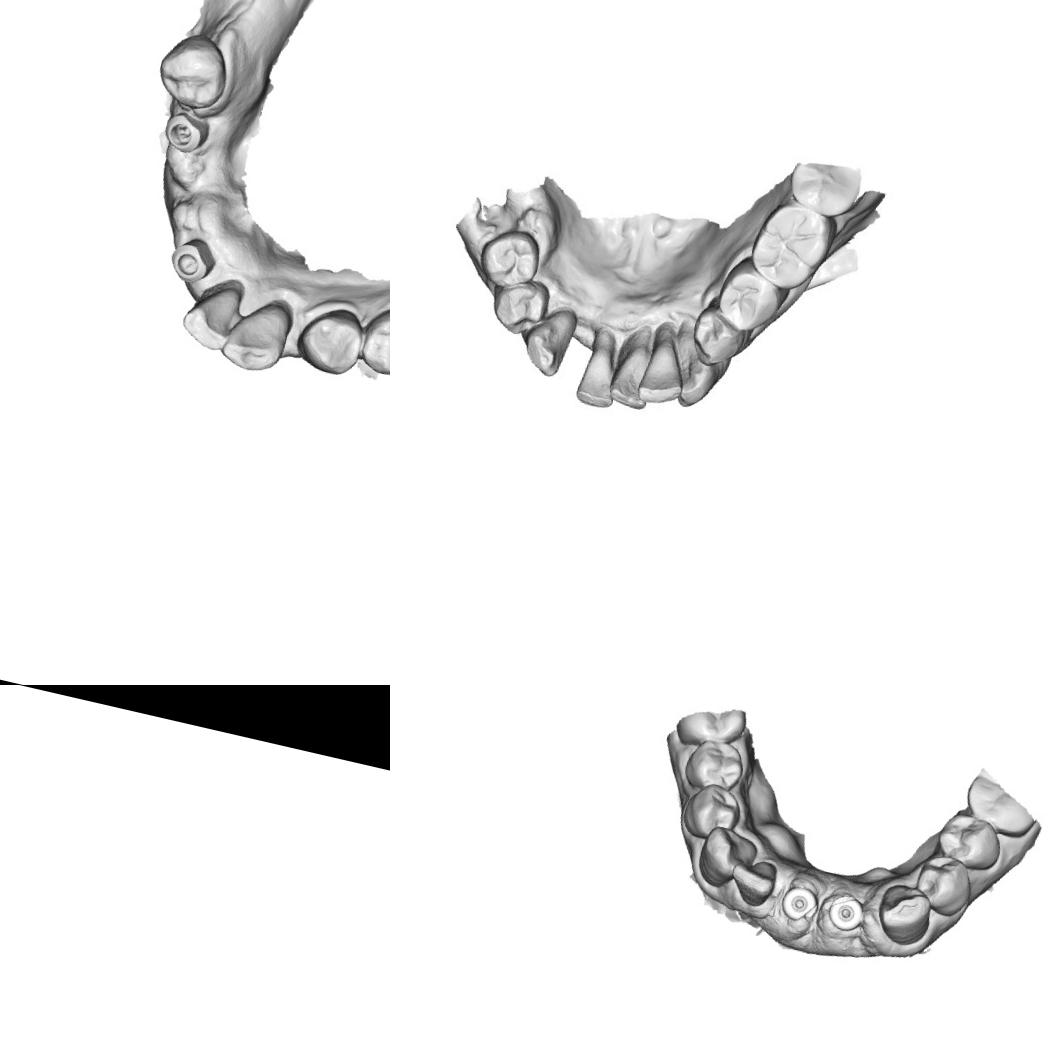canine: (218, 297, 294, 378), (664, 327, 729, 412), (691, 820, 764, 893), (870, 878, 938, 952), (515, 306, 577, 379)
implant: (164, 231, 218, 288), (158, 109, 212, 160), (778, 878, 826, 928), (824, 890, 868, 936)
incisor: (174, 276, 247, 357), (606, 327, 664, 409), (638, 329, 693, 407), (572, 329, 624, 411), (724, 853, 785, 912)
molar: (745, 197, 834, 294), (718, 262, 784, 336), (680, 730, 750, 798)
premolar: (150, 27, 236, 116), (293, 300, 372, 382), (930, 807, 1008, 876), (908, 850, 979, 923), (677, 776, 747, 847), (478, 229, 538, 292), (689, 310, 750, 368), (490, 279, 546, 338), (356, 296, 390, 383)
